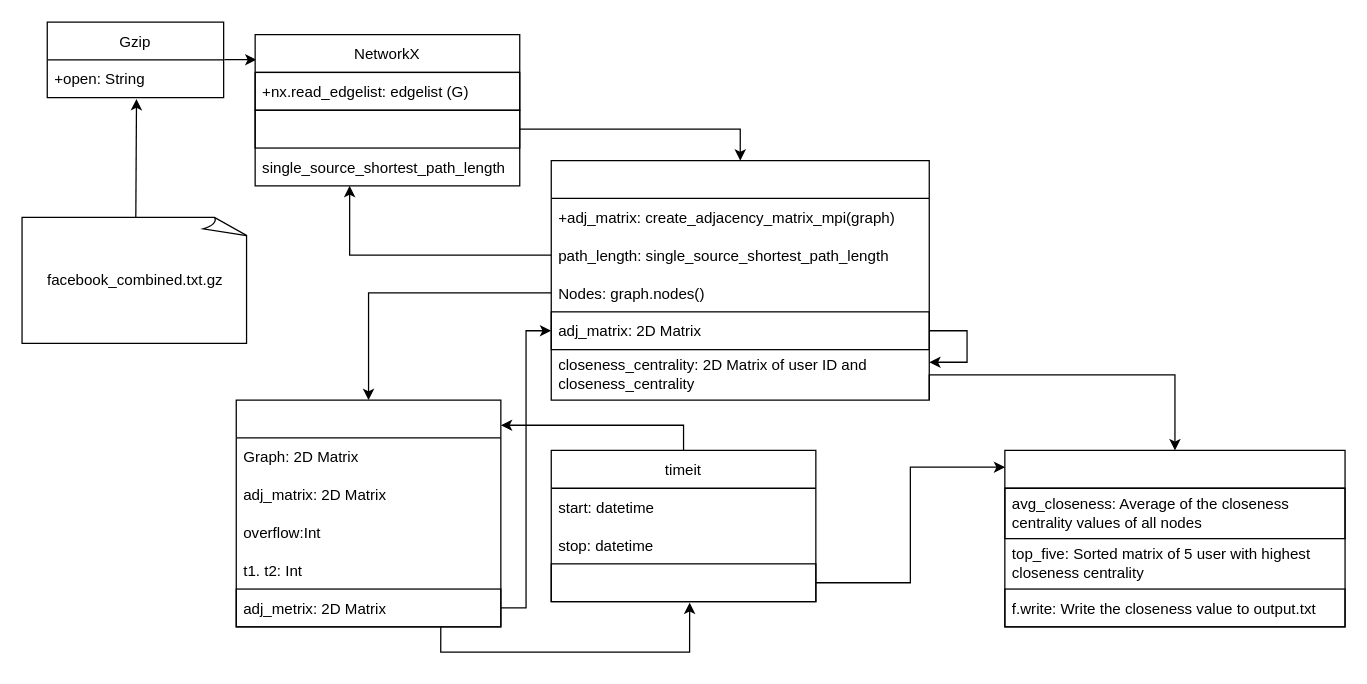
This 1367x684 diagram has some shape labels left out. The box of each missing label's shape, as (x1, y1, x2, y2) in pixels:
+G_Und: G.to_undirected(): (254, 109, 520, 148)
closeness_centrality(graph): (550, 159, 929, 400)
create_adjacency_matrix_mpi: (235, 399, 501, 627)
Main: (1004, 449, 1345, 627)
Time: datetime (stop-start): (550, 563, 816, 602)
